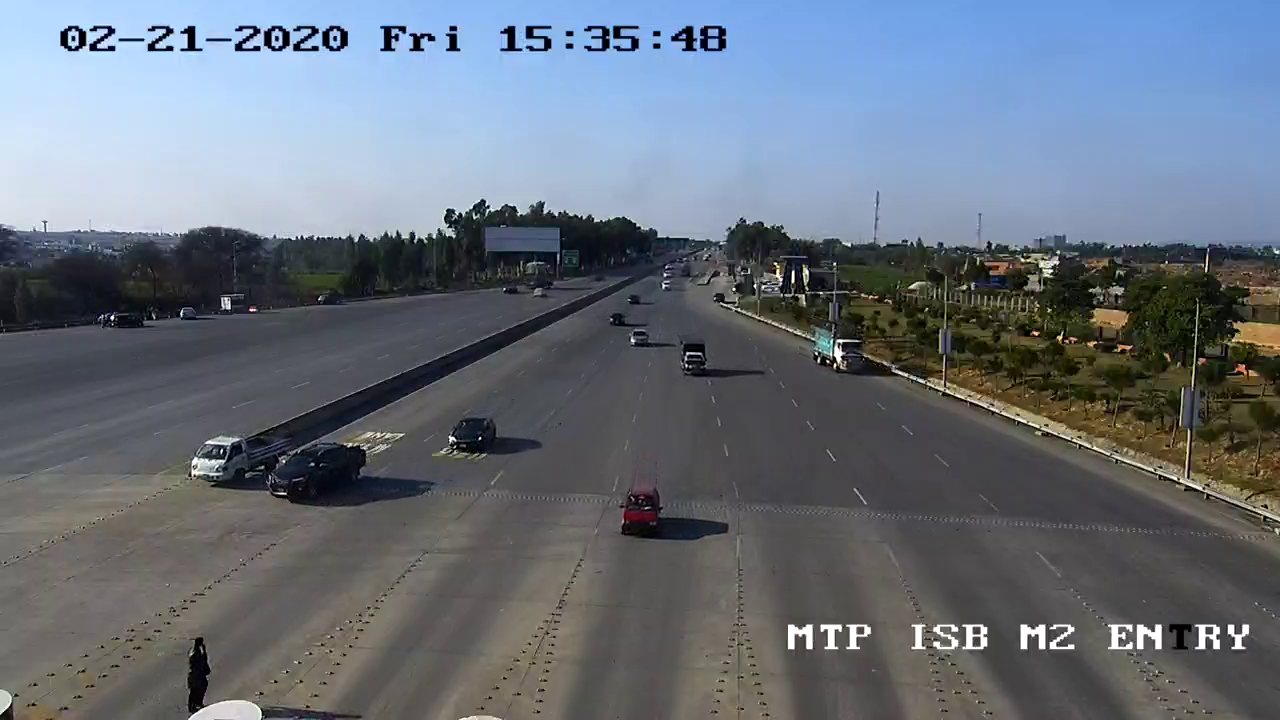f1: (259, 443, 377, 511), (612, 477, 669, 552), (443, 409, 502, 461)
